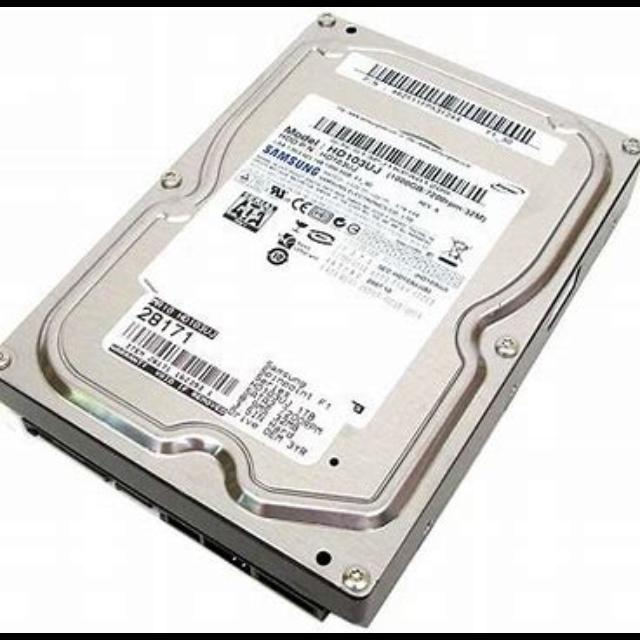HDD: (0, 14, 640, 630)
